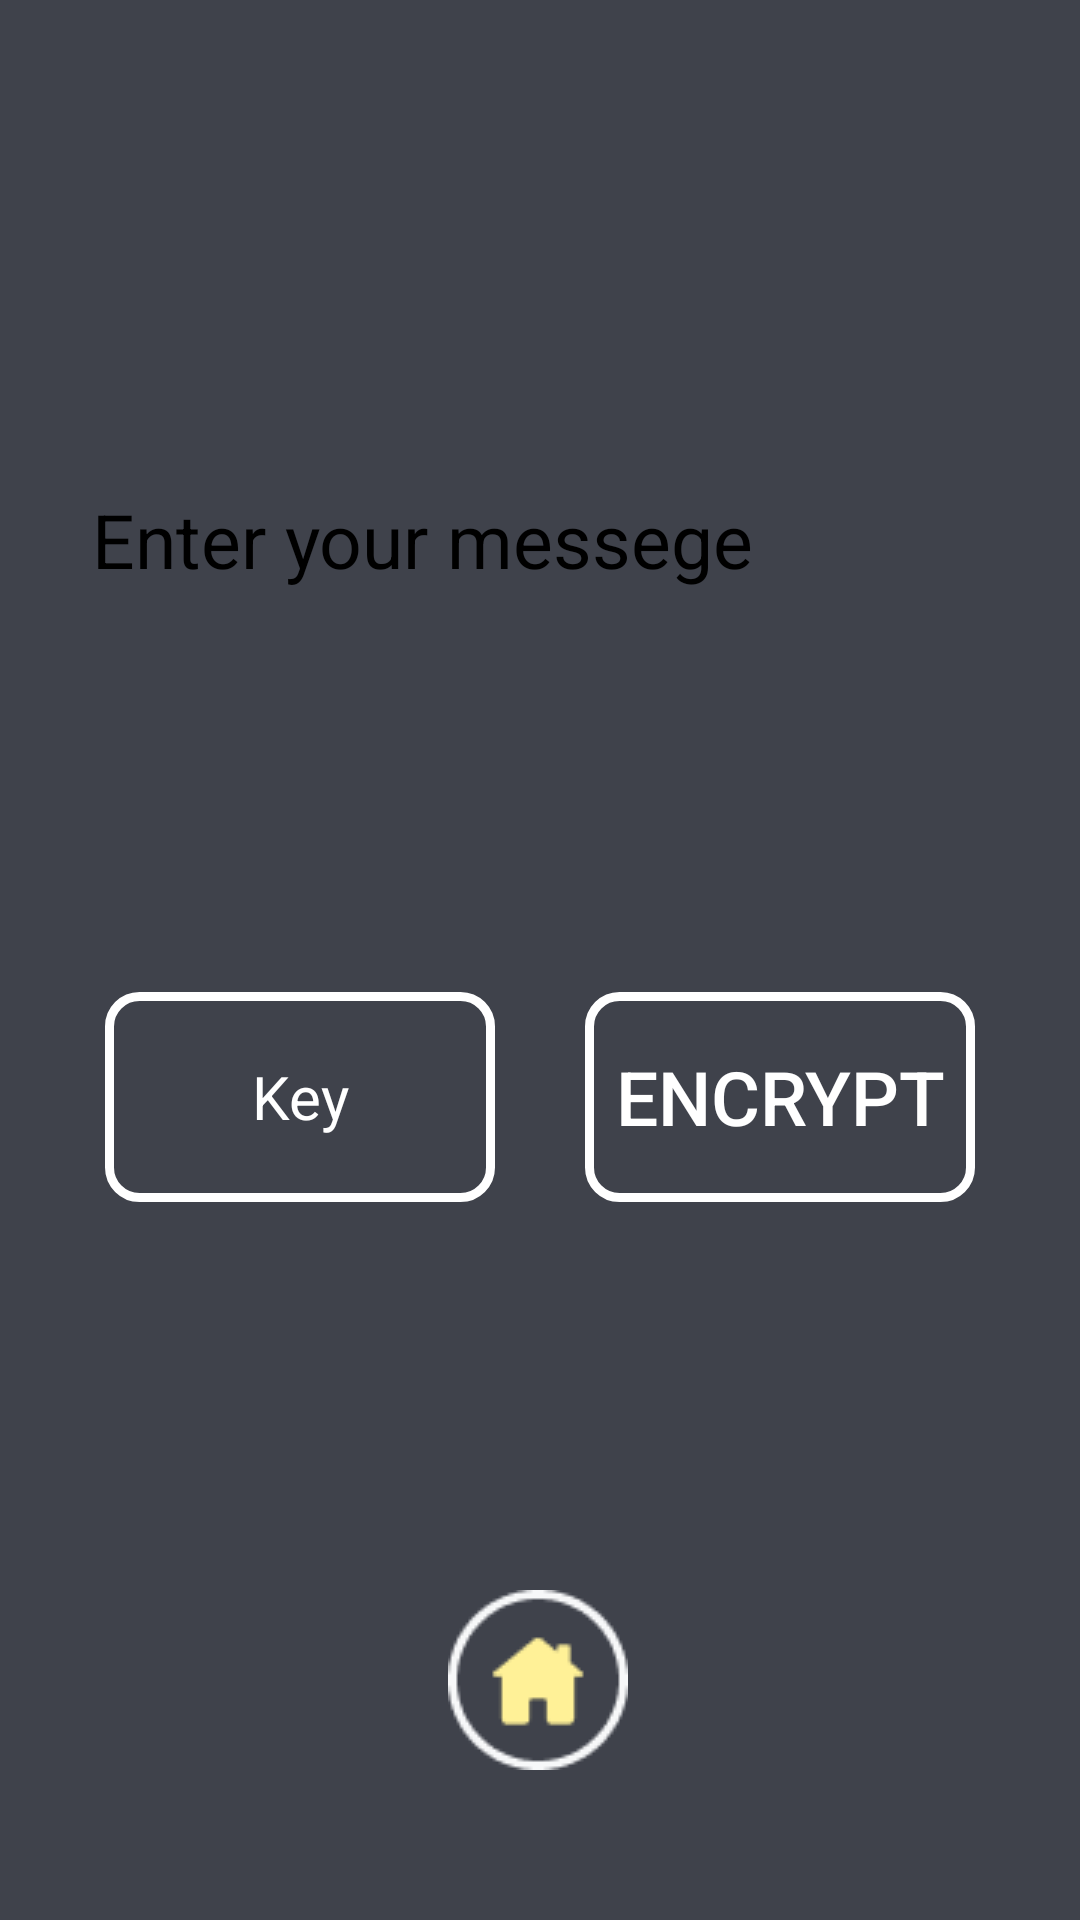

Where icons sit on this 1080x1920 app screen, as [x1,y1,x2,y2]:
home: [448,1590,628,1770]
